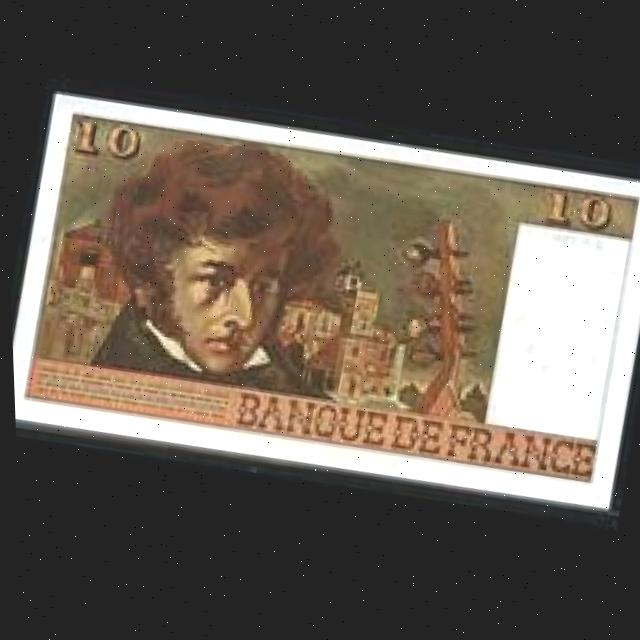banknote: (3, 61, 640, 545), (65, 102, 149, 176), (532, 186, 622, 248)
